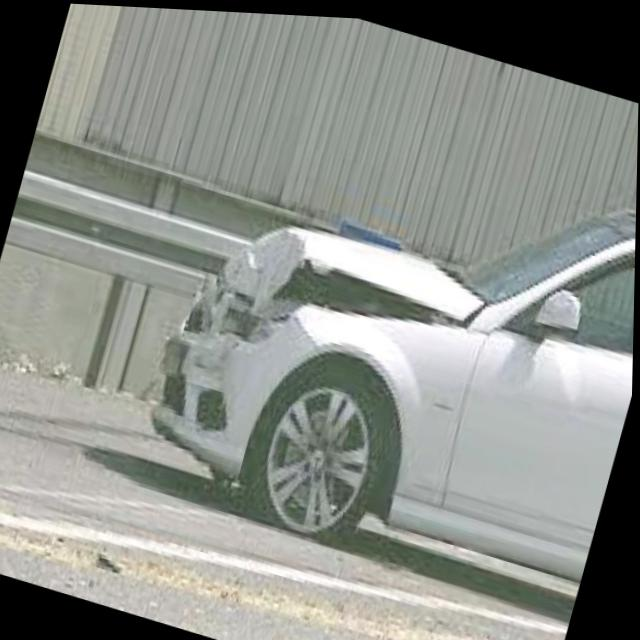Car-Damage: (148, 188, 483, 503)
